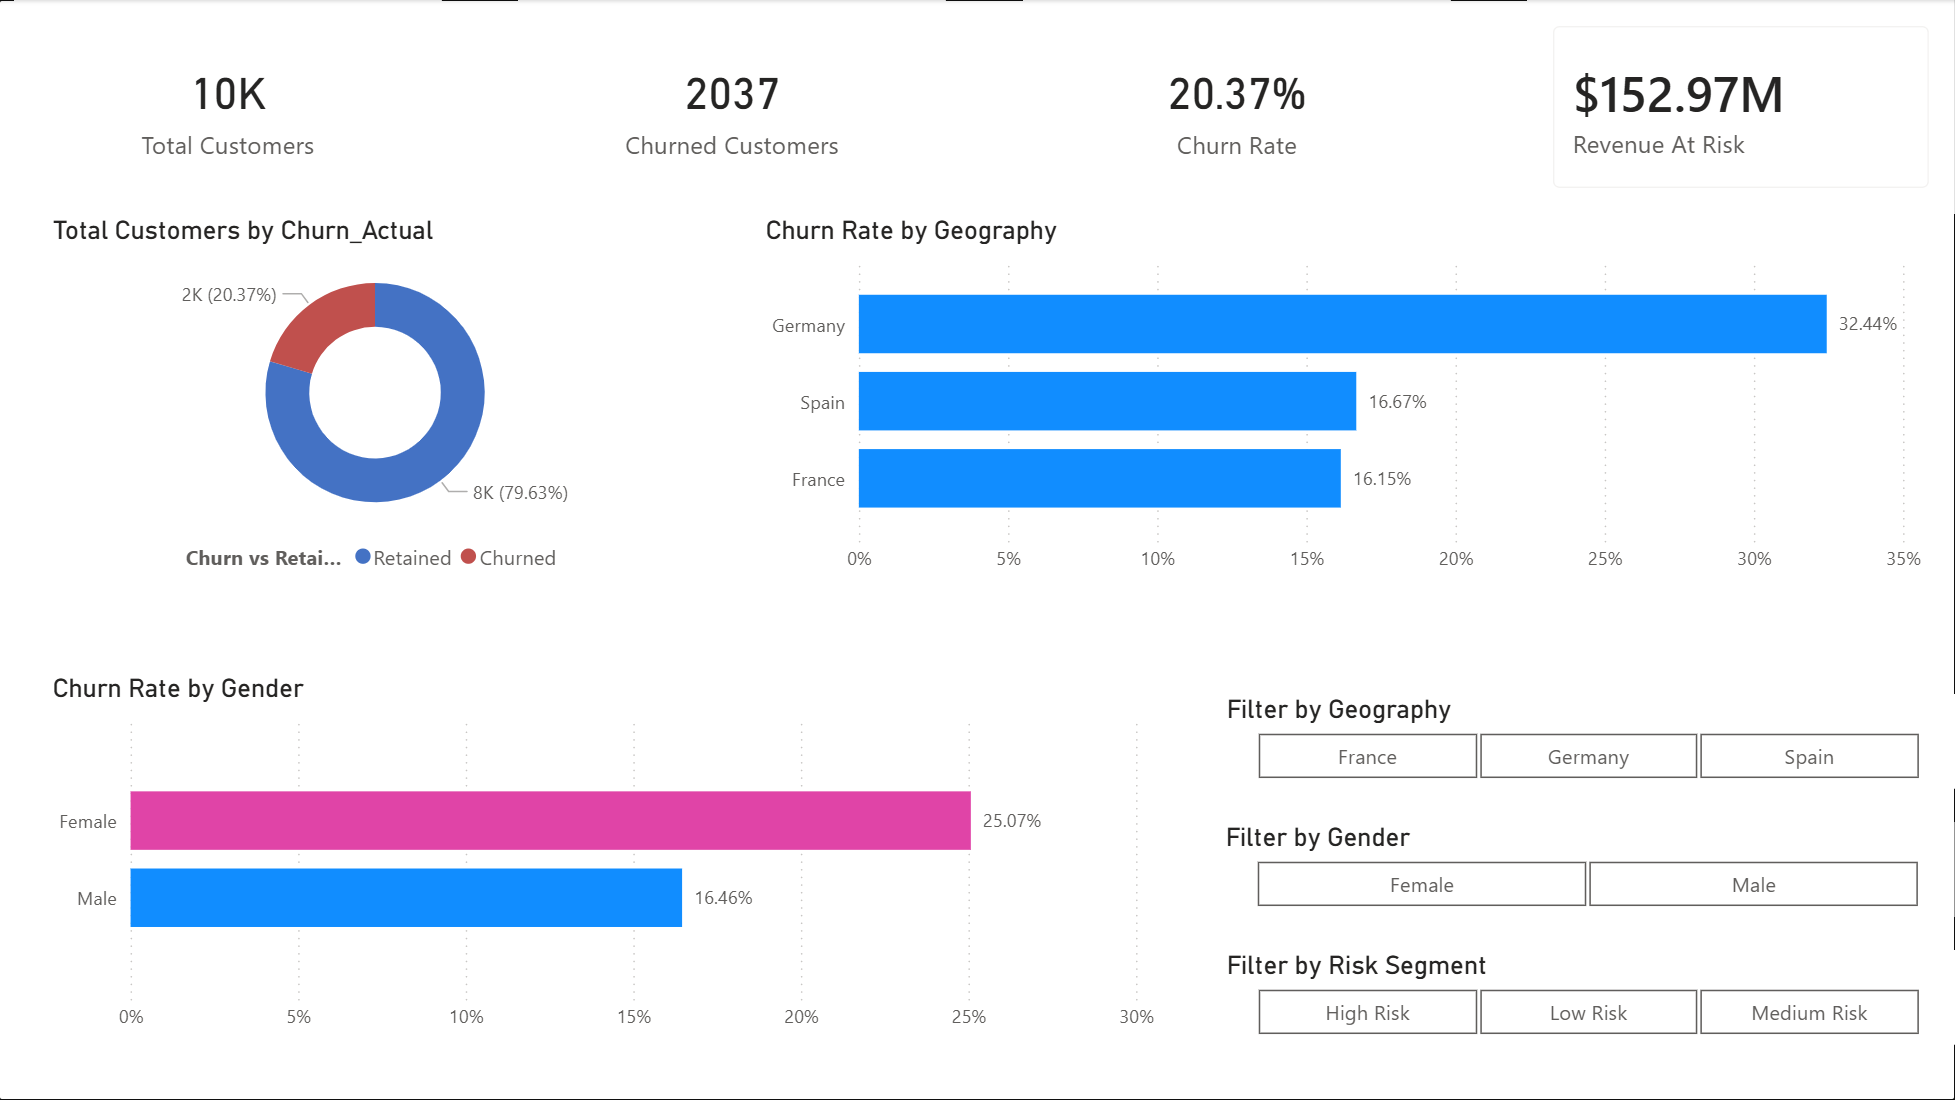

The dashboard page shown, as its layout file describes it:
{"tool":"powerbi","page":{"name":"Executive Summary","canvas":[1280,720],"ordinal":0},"visuals":[{"type":"cardVisual","fields":{"Data":["powerbi_export.Total Customers"]},"box":[30.1,0.7,280.1,140],"z":0},{"type":"cardVisual","fields":{"Data":["powerbi_export.Churned Customers"]},"box":[347.7,0,280.1,140],"z":1000},{"type":"cardVisual","fields":{"Data":["powerbi_export.Churn Rate"]},"box":[665.3,0,280.1,140],"z":2000},{"type":"cardVisual","fields":{"Data":["powerbi_export.Revenue At Risk"]},"box":[982.9,0.7,280.1,140],"z":3000},{"type":"donutChart","fields":{"Category":["powerbi_export.Churn_Actual"],"Y":["powerbi_export.Total Customers"]},"box":[30.1,169.2,431.9,242.8],"z":4000},{"type":"clusteredBarChart","fields":{"Category":["powerbi_export.Geography"],"Y":["powerbi_export.Churn Rate"]},"box":[496.7,168.8,766.3,242.8],"z":5000},{"type":"clusteredBarChart","fields":{"Y":["powerbi_export.Churn Rate"],"Category":["powerbi_export.Gender"]},"box":[30.1,440.4,692.4,242.8],"z":6000},{"type":"slicer","title":"Filter by Geography","fields":{"Values":["powerbi_export.Geography"]},"box":[798.4,454.2,464.6,61.5],"z":7000},{"type":"slicer","title":"Filter by Gender","fields":{"Values":["powerbi_export.Gender"]},"box":[797.7,537.9,465.3,61.5],"z":8000},{"type":"slicer","title":"Filter by Risk Segment","fields":{"Values":["powerbi_export.Risk_Segment"]},"box":[798.4,621.7,464.6,61.5],"z":9000}]}

Visuals, with their boxes in screenshot pixels (x1, y1, x2, y2), scaled from the page's 1280x720 canvas onto the 1955x1100 screenshot:
cardVisual - powerbi_export.Total Customers: bbox(46, 1, 474, 215)
cardVisual - powerbi_export.Churned Customers: bbox(531, 0, 959, 214)
cardVisual - powerbi_export.Churn Rate: bbox(1016, 0, 1444, 214)
cardVisual - powerbi_export.Revenue At Risk: bbox(1501, 1, 1929, 215)
donutChart - powerbi_export.Churn_Actual x powerbi_export.Total Customers: bbox(46, 258, 706, 629)
clusteredBarChart - powerbi_export.Geography x powerbi_export.Churn Rate: bbox(759, 258, 1929, 629)
clusteredBarChart - powerbi_export.Churn Rate x powerbi_export.Gender: bbox(46, 673, 1104, 1044)
"Filter by Geography" slicer: bbox(1219, 694, 1929, 788)
"Filter by Gender" slicer: bbox(1218, 822, 1929, 916)
"Filter by Risk Segment" slicer: bbox(1219, 950, 1929, 1044)
